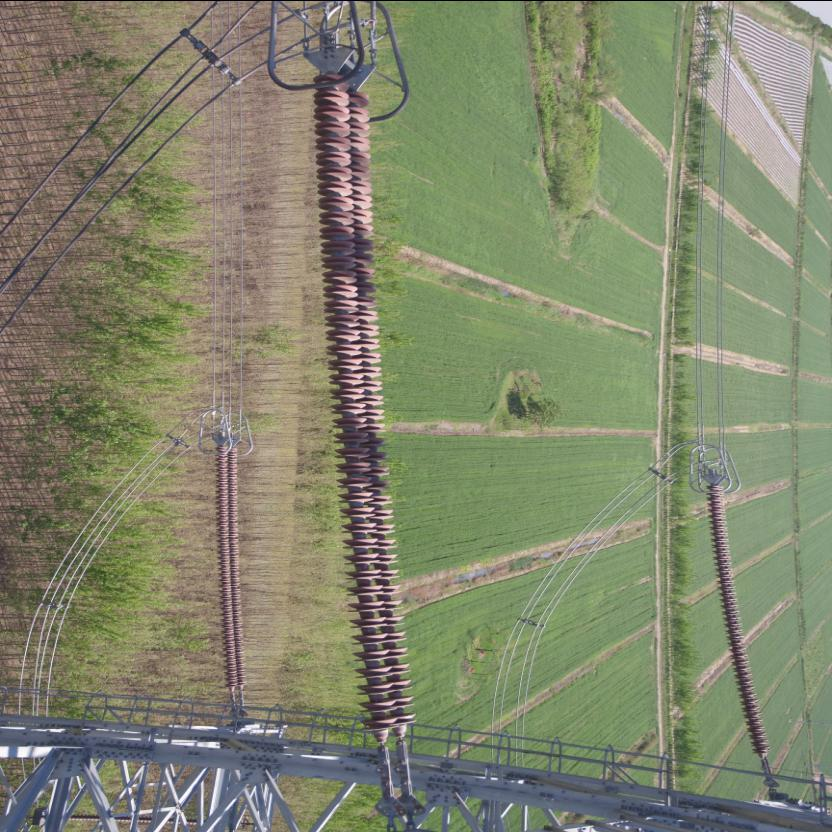insulator: (310, 62, 422, 779), (706, 480, 776, 767), (215, 441, 249, 701)
